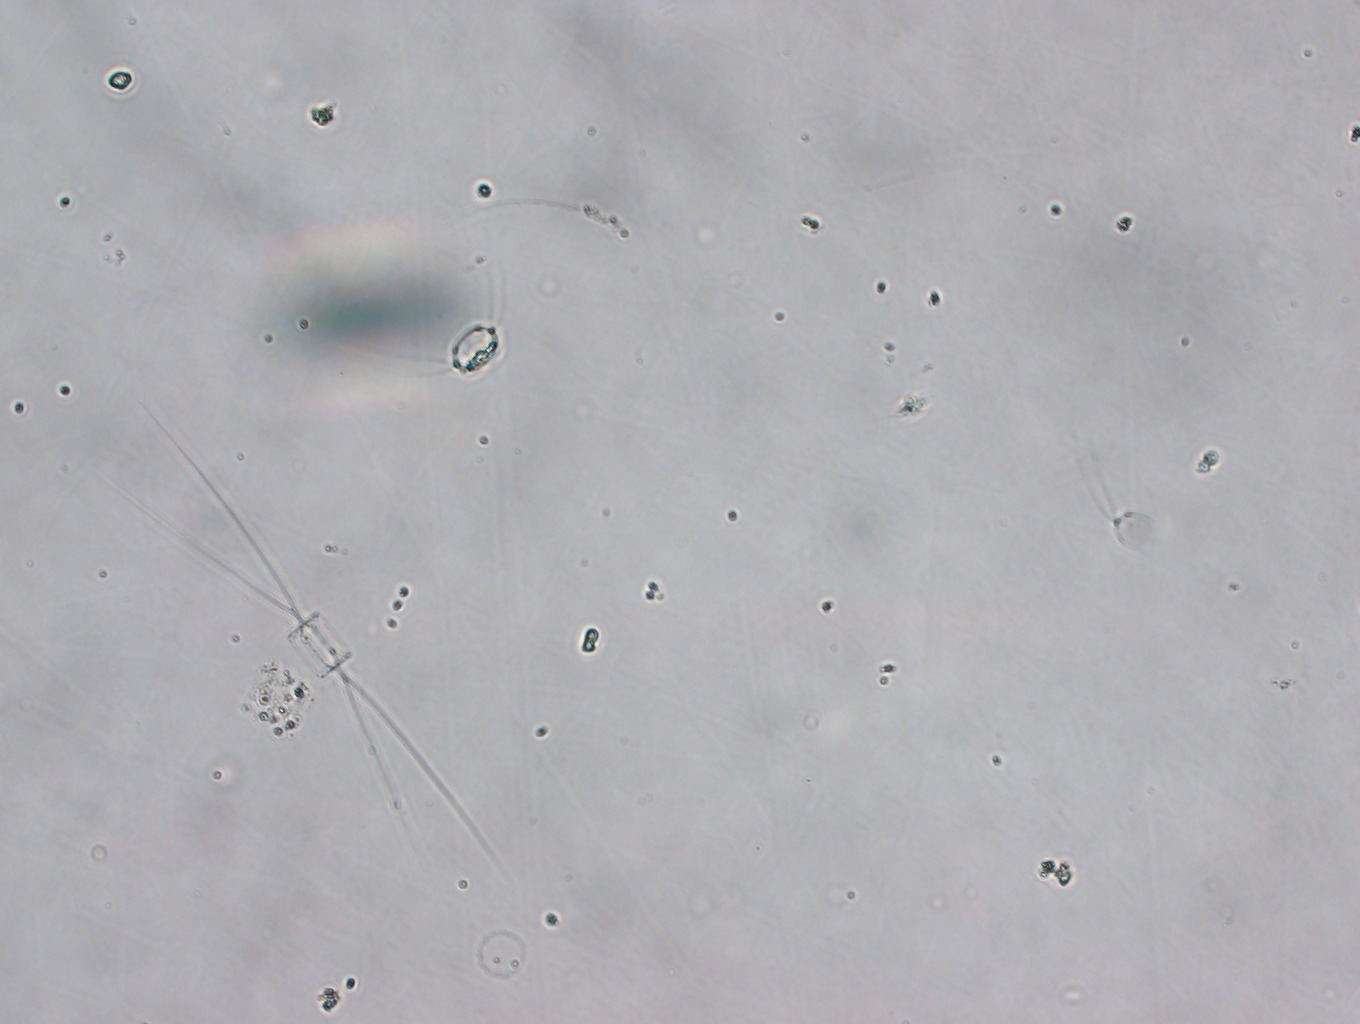chaetoceros: (91, 399, 512, 888), (331, 236, 512, 384)
